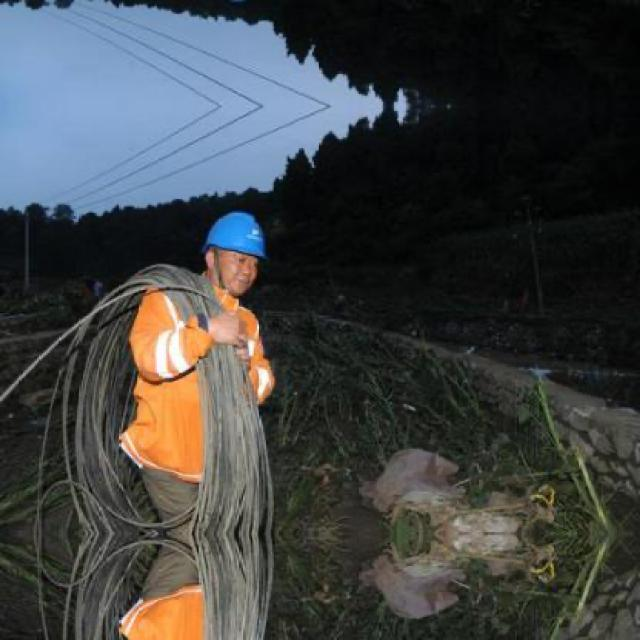helmet: (198, 204, 270, 304)
